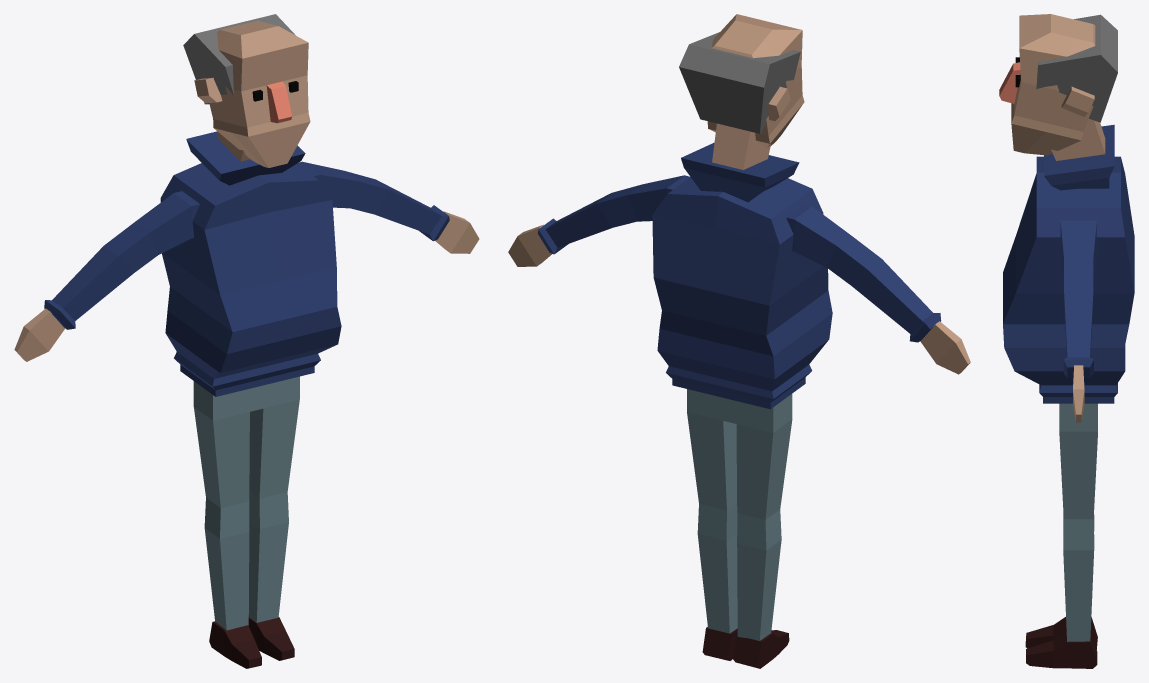
Rendered from grandpa.glb.
3 renders of one model, left to right at view 1: azimuth 30°, elevation 25°; view 2: azimuth 150°, elevation 25°; view 3: azimuth 270°, elevation 25°, orthographic.
Parts seen in each view (by area): view 1: Cube, Cube.001, Cube.002, Cube.005, Cube.003, Cube.009, Cube.004, Cube.010; view 2: Cube, Cube.001, Cube.002, Cube.009, Cube.005, Cube.003, Cube.008, Cube.004, Cube.010; view 3: Cube, Cube.005, Cube.001, Cube.002, Cube.009, Cube.010, Cube.008, Cube.004, Cube.007, Cube.003.
Boxes of the visible parts, left/top/right/bottom form: Cube: left=160, top=131, right=341, bottom=396; Cube.001: left=193, top=376, right=299, bottom=630; Cube.002: left=44, top=161, right=449, bottom=329; Cube.005: left=209, top=20, right=310, bottom=167; Cube.003: left=14, top=211, right=479, bottom=361; Cube.009: left=183, top=14, right=295, bottom=104; Cube.004: left=209, top=621, right=261, bottom=668; Cube.010: left=248, top=617, right=294, bottom=660; Cube: left=652, top=142, right=832, bottom=409; Cube.001: left=687, top=389, right=792, bottom=640; Cube.002: left=537, top=175, right=941, bottom=342; Cube.009: left=679, top=32, right=800, bottom=133; Cube.005: left=707, top=14, right=804, bottom=148; Cube.003: left=508, top=224, right=970, bottom=374; Cube.008: left=712, top=123, right=770, bottom=169; Cube.004: left=733, top=630, right=789, bottom=668; Cube.010: left=702, top=627, right=737, bottom=660; Cube: left=1003, top=124, right=1134, bottom=403; Cube.005: left=999, top=14, right=1095, bottom=155; Cube.001: left=1059, top=403, right=1097, bottom=641; Cube.002: left=1060, top=216, right=1096, bottom=377; Cube.009: left=1036, top=14, right=1117, bottom=122; Cube.010: left=1026, top=631, right=1097, bottom=668; Cube.008: left=1051, top=119, right=1105, bottom=160; Cube.004: left=1025, top=617, right=1097, bottom=649; Cube.007: left=1061, top=86, right=1094, bottom=116; Cube.003: left=1073, top=365, right=1084, bottom=422.
Size of the model in its own units: 4.44 by 5.74 by 1.11.
